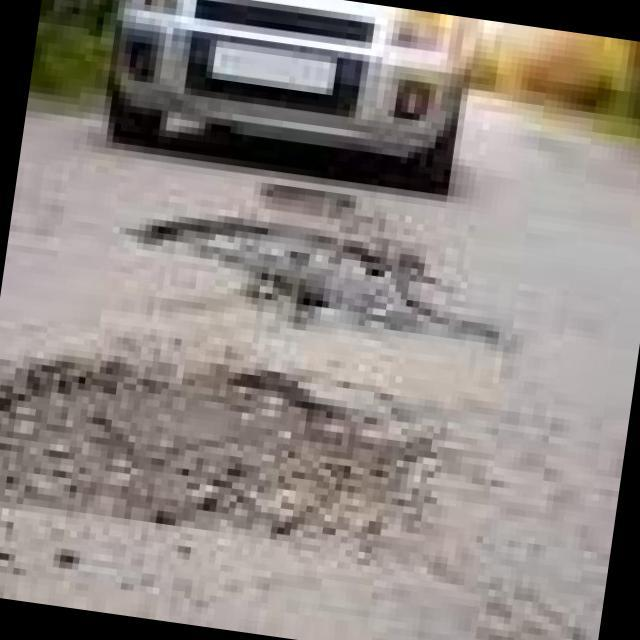Pothole: (0, 366, 441, 535), (138, 186, 494, 338)
